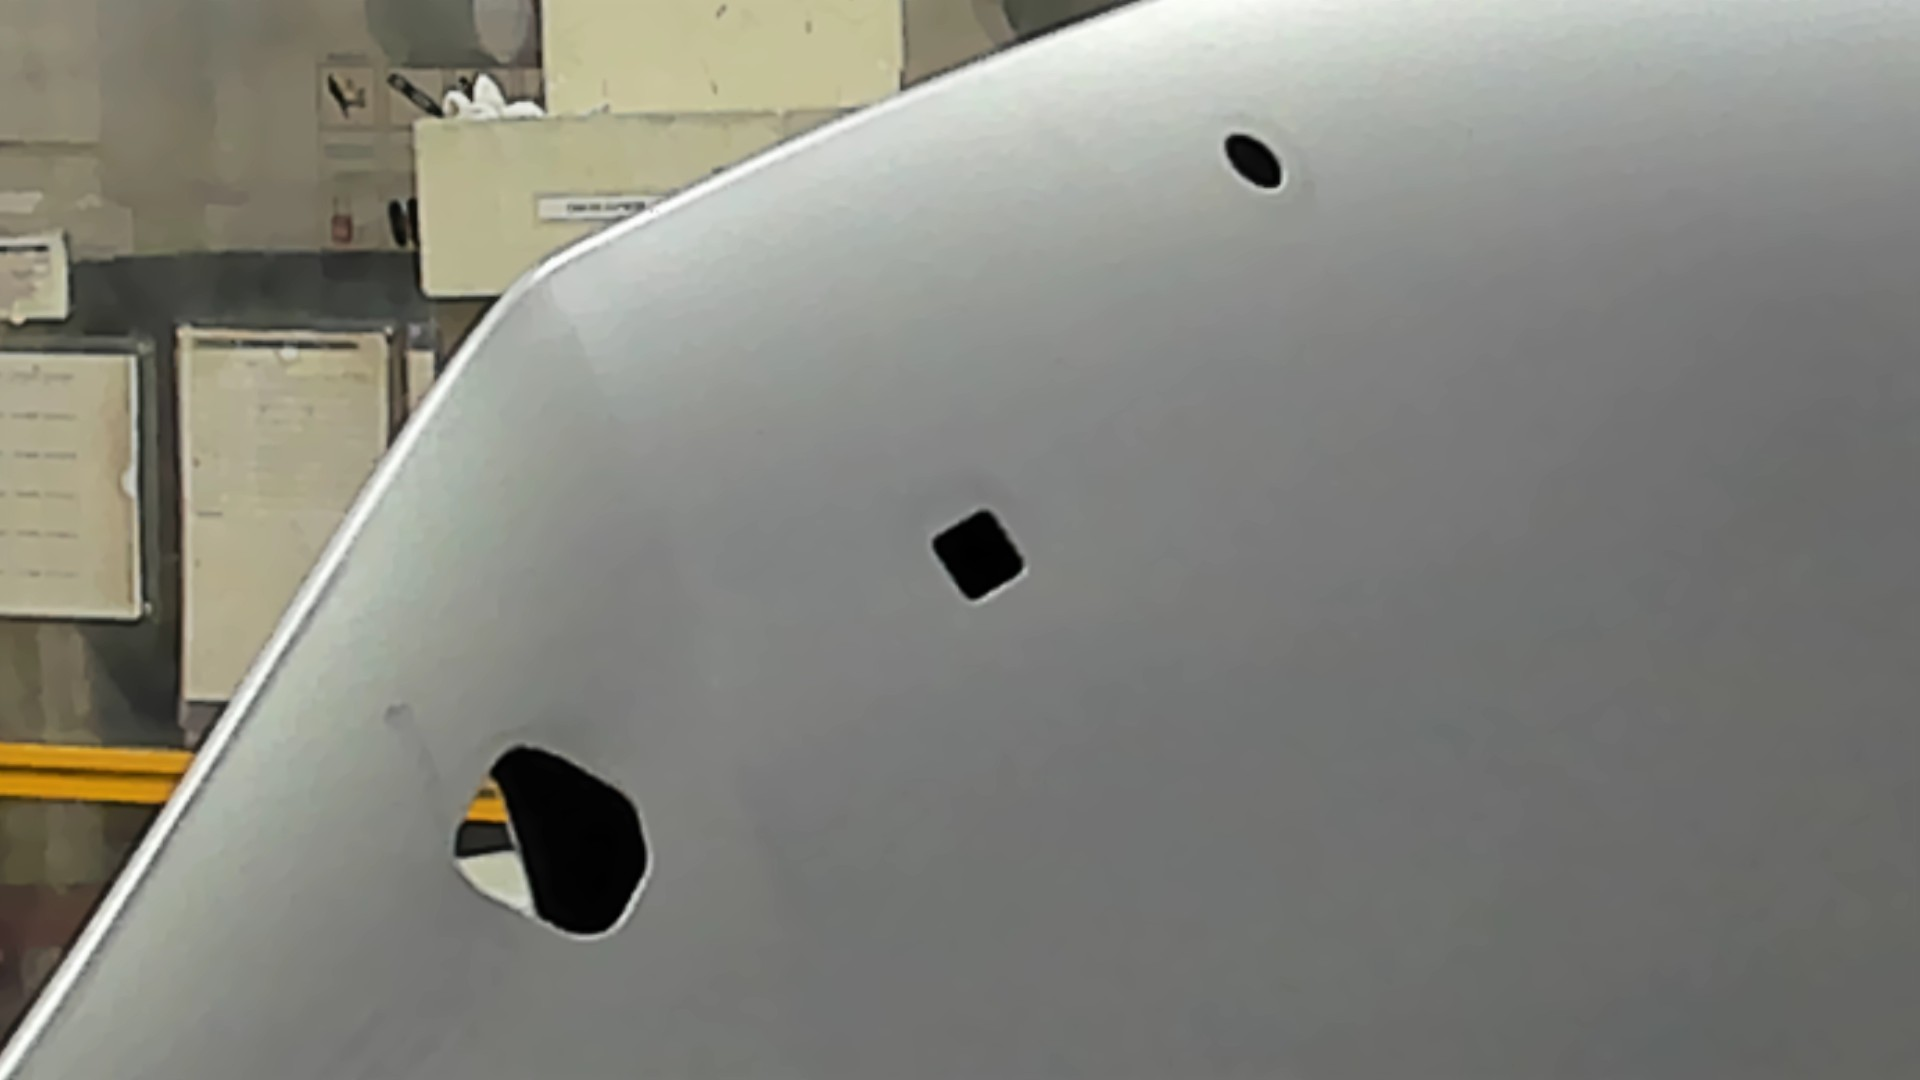capo: (1033, 196, 1920, 1075)
chico: (1218, 127, 1288, 194)
grande: (448, 737, 651, 947)
mediano: (924, 501, 1033, 613)
